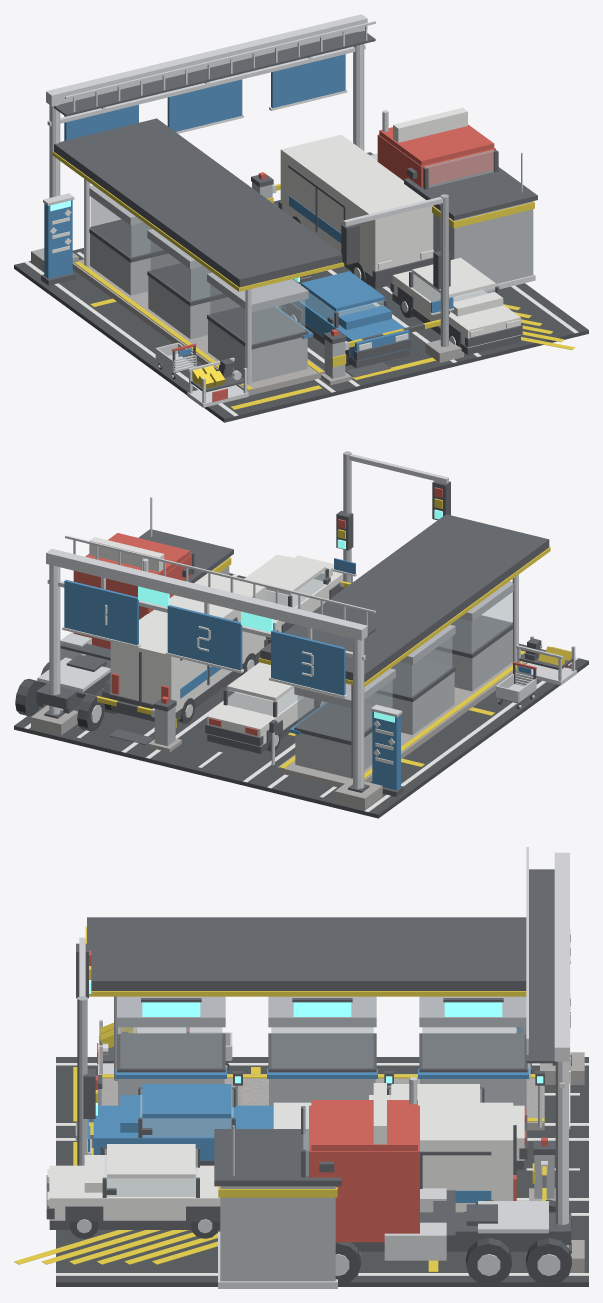
Rendered from ferry-terminal-and-harbour-crossing-ferry-terminal-and-1dd08896__35664.glb.
3 renders of one model, top to bottom at view 1: azimuth 30°, elevation 25°; view 2: azimuth 150°, elevation 25°; view 3: azimuth 270°, elevation 25°, orthographic. The views are drawn at different scales.
Visible parts, largest first — view 1: 009-ferry-terminal-and-harbour-crossing-check-in-booth-run/3, 018-ferry-terminal-and-harbour-crossing-panel-van/1, 009-ferry-terminal-and-harbour-crossing-check-in-booth-run/2, 012-ferry-terminal-and-harbour-crossing-lane-number-gantry/1, 012-ferry-terminal-and-harbour-crossing-lane-number-gantry/3, 009-ferry-terminal-and-harbour-crossing-check-in-booth-run/4, 017-ferry-terminal-and-harbour-crossing-family-car-blue/1, 019-ferry-terminal-and-harbour-crossing-family-car/1, 014-ferry-terminal-and-harbour-crossing-staff-hut/1, 020-ferry-terminal-and-harbour-crossing-lorry-cab/1, 012-ferry-terminal-and-harbour-crossing-lane-number-gantry/2, 013-ferry-terminal-and-harbour-crossing-traffic-light-gantry (×4) (+22 smaller); view 2: 009-ferry-terminal-and-harbour-crossing-check-in-booth-run/3, 012-ferry-terminal-and-harbour-crossing-lane-number-gantry/1, 012-ferry-terminal-and-harbour-crossing-lane-number-gantry/3, 009-ferry-terminal-and-harbour-crossing-check-in-booth-run/2, 018-ferry-terminal-and-harbour-crossing-panel-van/1, 009-ferry-terminal-and-harbour-crossing-check-in-booth-run/4, 001-ferry-terminal-and-harbour-crossing-marshalling-lane-til (×2), 016-ferry-terminal-and-harbour-crossing-family-car/1, 019-ferry-terminal-and-harbour-crossing-family-car/1, 000-ferry-terminal-and-harbour-crossing-marshalling-lane-til, 002-ferry-terminal-and-harbour-crossing-marshalling-lane-til, 003-ferry-terminal-and-harbour-crossing-marshalling-lane-til (+22 smaller); view 3: 009-ferry-terminal-and-harbour-crossing-check-in-booth-run/3, 020-ferry-terminal-and-harbour-crossing-lorry-cab/1, 009-ferry-terminal-and-harbour-crossing-check-in-booth-run/4, 009-ferry-terminal-and-harbour-crossing-check-in-booth-run/2, 019-ferry-terminal-and-harbour-crossing-family-car/1, 014-ferry-terminal-and-harbour-crossing-staff-hut/1, 008-ferry-terminal-and-harbour-crossing-marshalling-lane-til (×2), 018-ferry-terminal-and-harbour-crossing-panel-van/1, 017-ferry-terminal-and-harbour-crossing-family-car-blue/1, 012-ferry-terminal-and-harbour-crossing-lane-number-gantry/1, 014-ferry-terminal-and-harbour-crossing-staff-hut/3, 012-ferry-terminal-and-harbour-crossing-lane-number-gantry/2 (+26 smaller).
Boxes of the visible parts, box(x1,y1,x2,y2) form: 009-ferry-terminal-and-harbour-crossing-check-in-booth-run/3: box(54, 118, 342, 349); 018-ferry-terminal-and-harbour-crossing-panel-van/1: box(280, 134, 433, 276); 009-ferry-terminal-and-harbour-crossing-check-in-booth-run/2: box(89, 185, 308, 382); 012-ferry-terminal-and-harbour-crossing-lane-number-gantry/1: box(46, 14, 375, 197); 012-ferry-terminal-and-harbour-crossing-lane-number-gantry/3: box(64, 54, 345, 140); 009-ferry-terminal-and-harbour-crossing-check-in-booth-run/4: box(91, 197, 305, 344); 017-ferry-terminal-and-harbour-crossing-family-car-blue/1: box(281, 271, 409, 361); 019-ferry-terminal-and-harbour-crossing-family-car/1: box(392, 257, 520, 347); 014-ferry-terminal-and-harbour-crossing-staff-hut/1: box(433, 201, 533, 284); 020-ferry-terminal-and-harbour-crossing-lorry-cab/1: box(377, 124, 495, 187); 012-ferry-terminal-and-harbour-crossing-lane-number-gantry/2: box(54, 30, 375, 116); 013-ferry-terminal-and-harbour-crossing-traffic-light-gantry (×4): box(341, 194, 463, 362); 009-ferry-terminal-and-harbour-crossing-check-in-booth-run/3: box(260, 514, 549, 745); 012-ferry-terminal-and-harbour-crossing-lane-number-gantry/1: box(46, 535, 375, 788); 012-ferry-terminal-and-harbour-crossing-lane-number-gantry/3: box(64, 579, 345, 695); 009-ferry-terminal-and-harbour-crossing-check-in-booth-run/2: box(294, 581, 513, 778); 018-ferry-terminal-and-harbour-crossing-panel-van/1: box(110, 573, 265, 712); 009-ferry-terminal-and-harbour-crossing-check-in-booth-run/4: box(297, 593, 511, 739); 001-ferry-terminal-and-harbour-crossing-marshalling-lane-til (×2): box(135, 704, 295, 788); 016-ferry-terminal-and-harbour-crossing-family-car/1: box(207, 662, 314, 746); 019-ferry-terminal-and-harbour-crossing-family-car/1: box(244, 554, 343, 639); 000-ferry-terminal-and-harbour-crossing-marshalling-lane-til: box(257, 754, 448, 818); 002-ferry-terminal-and-harbour-crossing-marshalling-lane-til: box(14, 689, 205, 759); 003-ferry-terminal-and-harbour-crossing-marshalling-lane-til: box(409, 702, 518, 766); 009-ferry-terminal-and-harbour-crossing-check-in-booth-run/3: box(87, 917, 544, 1085); 020-ferry-terminal-and-harbour-crossing-lorry-cab/1: box(309, 1100, 419, 1242); 009-ferry-terminal-and-harbour-crossing-check-in-booth-run/4: box(120, 1027, 524, 1068); 009-ferry-terminal-and-harbour-crossing-check-in-booth-run/2: box(117, 996, 526, 1114); 019-ferry-terminal-and-harbour-crossing-family-car/1: box(47, 1144, 220, 1220); 014-ferry-terminal-and-harbour-crossing-staff-hut/1: box(220, 1186, 335, 1281); 008-ferry-terminal-and-harbour-crossing-marshalling-lane-til (×2): box(14, 1230, 220, 1286); 018-ferry-terminal-and-harbour-crossing-panel-van/1: box(273, 1102, 513, 1212); 017-ferry-terminal-and-harbour-crossing-family-car-blue/1: box(87, 1084, 273, 1160); 012-ferry-terminal-and-harbour-crossing-lane-number-gantry/1: box(526, 847, 569, 1247); 014-ferry-terminal-and-harbour-crossing-staff-hut/3: box(214, 1129, 341, 1243); 012-ferry-terminal-and-harbour-crossing-lane-number-gantry/2: box(526, 869, 571, 1253).
Bounding box in the file's own units: 12.53 × 5.75 × 12.94.
Materials: 11 (1 with a texture image).
